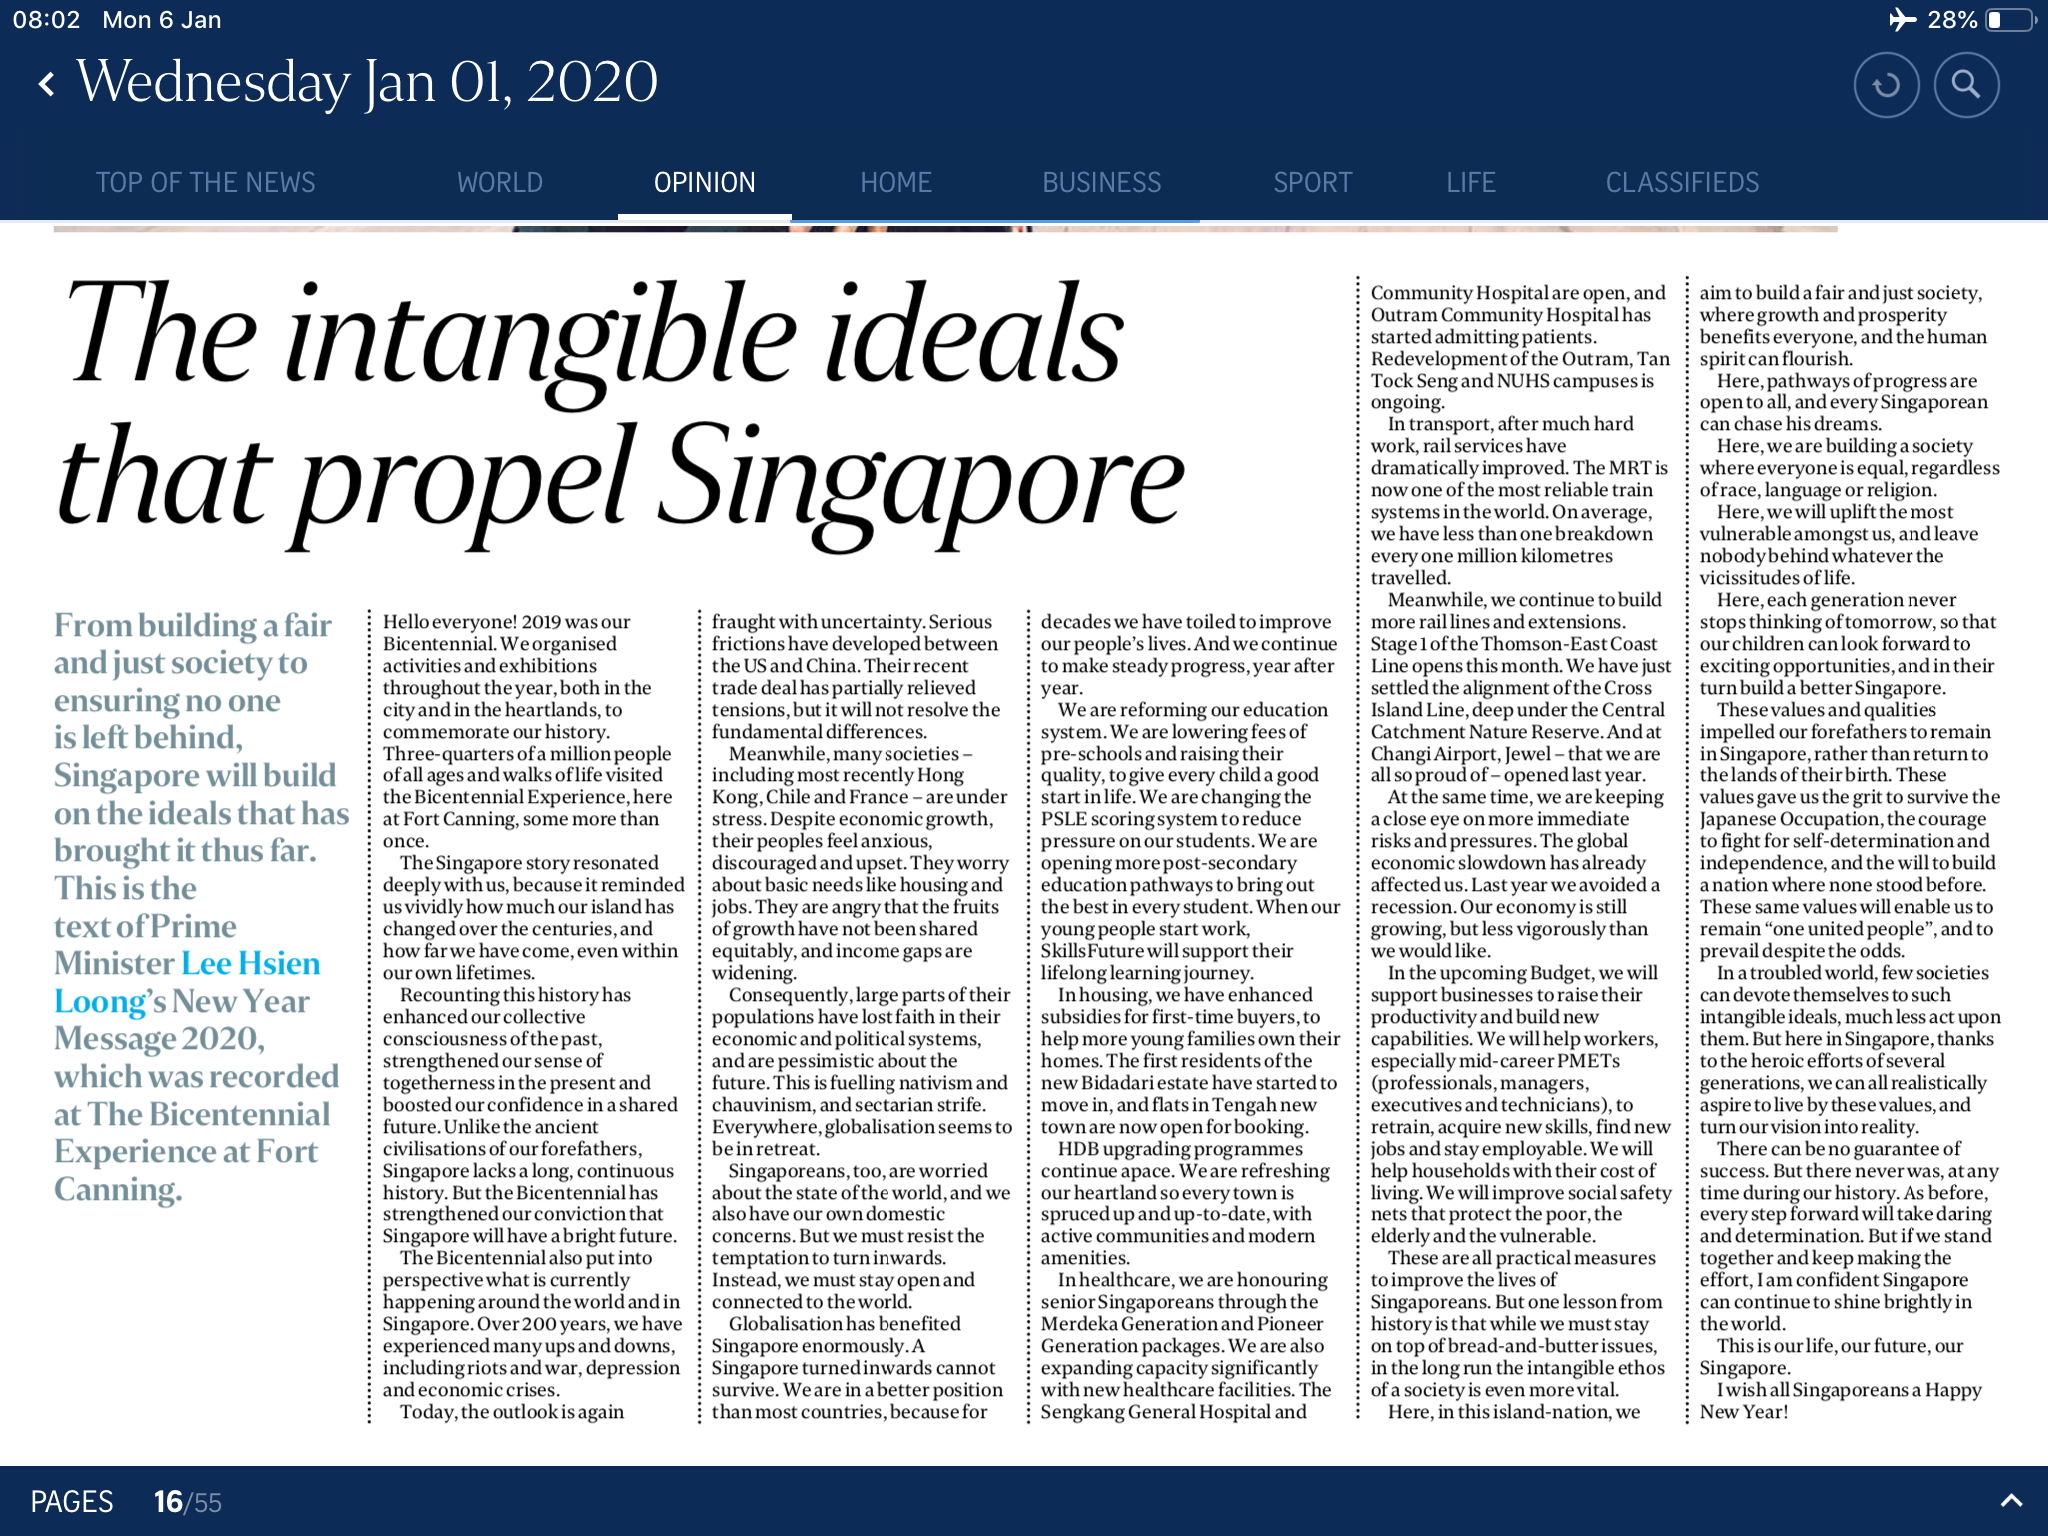Headline: (42, 263, 1205, 566)
Text: (1692, 274, 2013, 1438), (1364, 274, 1677, 1439), (705, 603, 1016, 1430), (376, 607, 685, 1433), (1035, 605, 1342, 1430), (42, 594, 361, 1220)
